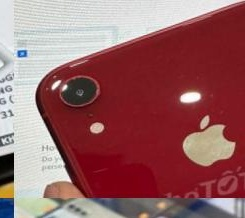scratch: (134, 56, 239, 148), (67, 72, 83, 85), (87, 83, 101, 96)
